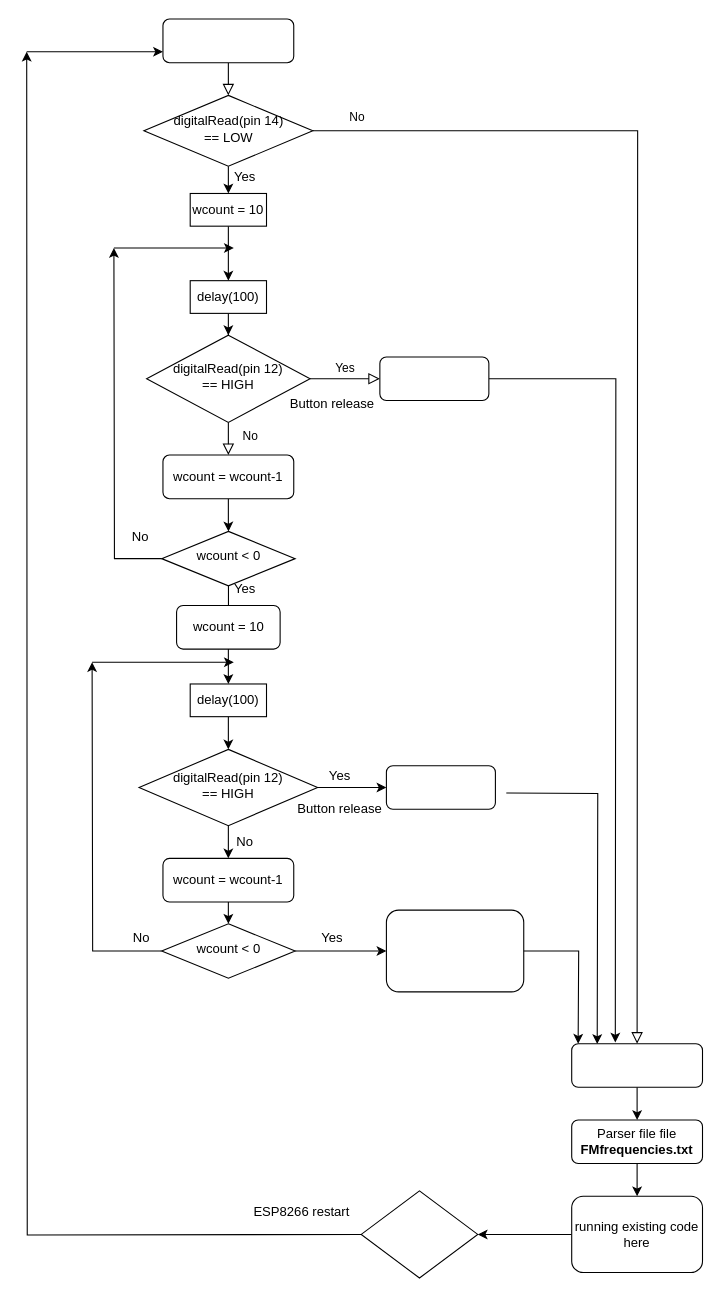
Some shapes in this 722 by 1297 pixel diagram are drawn without their labels. The box of each missing label's shape, as (x1, y1, x2, y2) in pixels:
Button 12 is pressed: (360, 1190, 478, 1278)
connect to Wifi: (385, 765, 495, 809)
ESP8266 start: (162, 18, 294, 63)
Parser file Prodnum.txt: (571, 1043, 703, 1087)
play File opearion (uploading/replacing frequencies txt fille): (385, 909, 524, 992)
run Wifi Radio: (379, 356, 489, 401)
